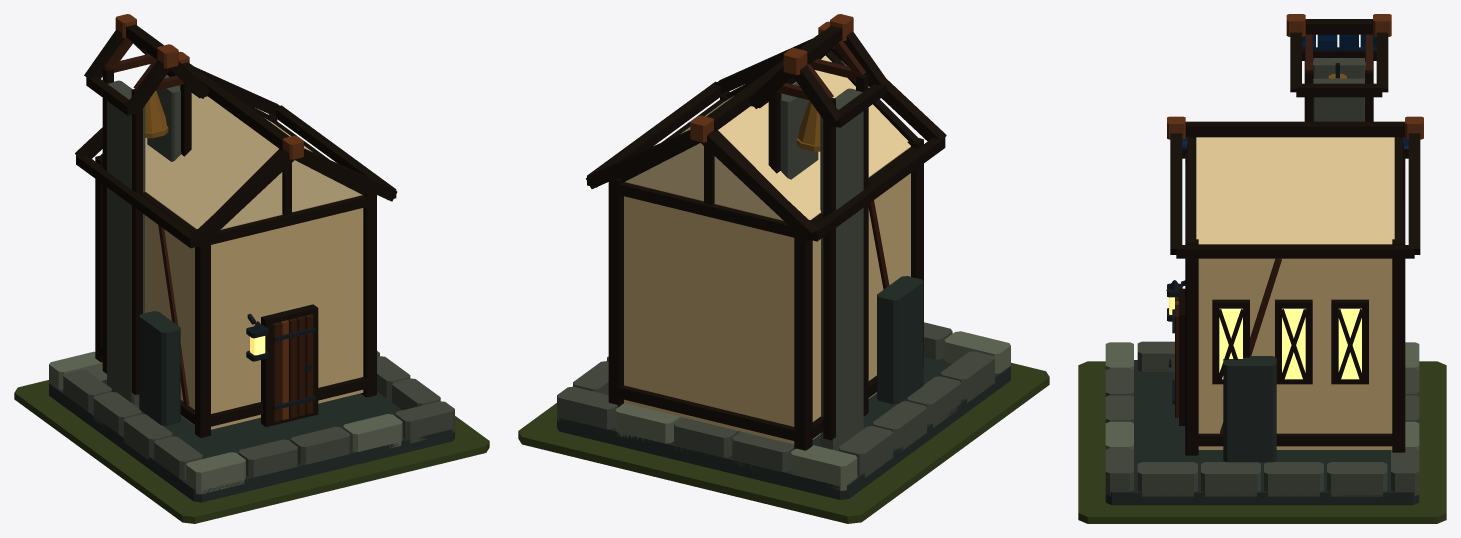
Rendered from chapel_t6.glb.
3 renders of one model, left to right at view 1: azimuth 30°, elevation 25°; view 2: azimuth 150°, elevation 25°; view 3: azimuth 270°, elevation 25°, orthographic. The views are drawn at different scales.
Visible parts, largest first — view 1: MMR | chapel | T06 Architecture.001, MMR | chapel | Tier 06 Ground.001; view 2: MMR | chapel | T06 Architecture.001, MMR | chapel | Tier 06 Ground.001; view 3: MMR | chapel | T06 Architecture.001, MMR | chapel | Tier 06 Ground.001.
Part boxes in pixels (x1=…): MMR | chapel | T06 Architecture.001: x1=49, y1=14, x2=454, y2=502; MMR | chapel | Tier 06 Ground.001: x1=14, y1=380, x2=489, y2=523; MMR | chapel | T06 Architecture.001: x1=557, y1=14, x2=1010, y2=499; MMR | chapel | Tier 06 Ground.001: x1=518, y1=362, x2=1049, y2=523; MMR | chapel | T06 Architecture.001: x1=1105, y1=14, x2=1423, y2=505; MMR | chapel | Tier 06 Ground.001: x1=1078, y1=361, x2=1446, y2=523.
Bounding box in the file's own units: 2.35 × 2.77 × 2.35.
Materials: 2 (1 with a texture image).
